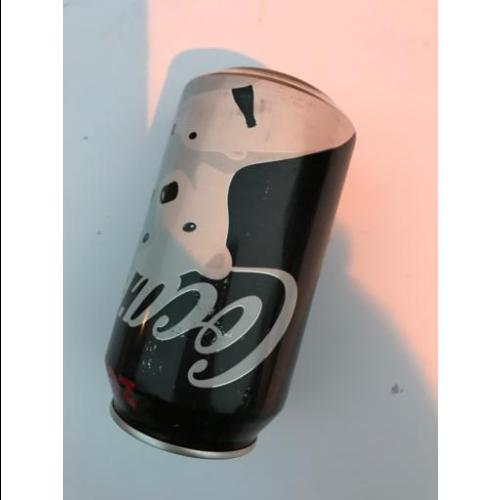metal: (107, 62, 357, 457)
